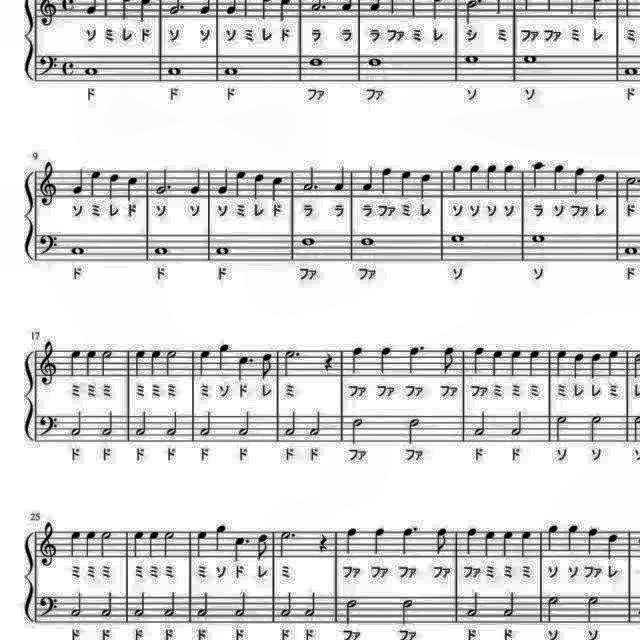Bass-clef: (37, 231, 63, 261), (36, 412, 62, 441), (37, 592, 61, 620), (36, 51, 59, 80)
Eighth-note: (440, 344, 460, 376), (431, 524, 449, 556), (253, 531, 271, 563), (257, 348, 275, 379)
Full-note: (298, 234, 320, 250), (66, 242, 88, 258), (461, 52, 482, 68), (166, 64, 186, 80), (364, 56, 384, 72), (151, 242, 171, 258), (213, 242, 233, 258), (448, 232, 468, 248), (357, 234, 377, 250), (221, 64, 241, 80), (529, 232, 549, 248), (520, 52, 540, 68), (306, 55, 326, 71), (83, 64, 103, 78), (623, 242, 640, 258), (623, 64, 640, 80), (639, 242, 640, 258), (639, 64, 640, 80)
Half-dot: (278, 526, 298, 562), (153, 165, 174, 197), (282, 346, 302, 378), (301, 163, 321, 193)
Half-note: (406, 416, 426, 448), (398, 596, 418, 628), (342, 596, 362, 628), (585, 593, 603, 627), (97, 527, 115, 561), (349, 416, 367, 448), (509, 407, 527, 439), (233, 408, 251, 440), (587, 412, 605, 444), (97, 347, 115, 379), (464, 588, 481, 620), (160, 530, 177, 562), (472, 408, 490, 438), (198, 408, 216, 438), (229, 592, 247, 622), (554, 412, 570, 444), (282, 408, 298, 440), (546, 594, 562, 626), (68, 588, 84, 620), (306, 408, 322, 439), (163, 347, 179, 378), (98, 408, 114, 439), (68, 408, 84, 438), (304, 589, 320, 619), (99, 588, 115, 618), (502, 592, 518, 622), (278, 589, 294, 619), (134, 408, 150, 438), (164, 409, 180, 439), (196, 590, 212, 618), (134, 592, 150, 620), (162, 588, 176, 616)
Quarter-dot: (398, 526, 422, 562), (404, 342, 428, 376), (232, 351, 255, 382), (231, 534, 251, 566)
Quarter-note: (342, 523, 362, 557), (370, 523, 390, 557), (568, 165, 588, 199), (214, 340, 232, 376), (376, 344, 396, 376), (347, 344, 365, 376), (461, 524, 479, 556), (487, 346, 505, 378), (584, 524, 602, 556), (196, 346, 214, 378), (591, 170, 609, 202), (67, 526, 83, 562), (468, 344, 486, 376), (549, 162, 567, 194), (552, 346, 570, 378), (131, 346, 149, 378), (193, 526, 210, 558), (378, 165, 394, 199), (82, 526, 98, 560), (146, 527, 162, 561), (416, 171, 434, 201), (604, 530, 620, 562), (106, 170, 122, 202), (482, 527, 498, 559), (250, 170, 266, 202), (604, 347, 620, 379), (396, 166, 412, 198), (526, 346, 542, 378), (234, 168, 250, 200), (70, 166, 86, 198), (66, 346, 82, 378), (82, 348, 98, 380), (565, 524, 581, 556), (130, 526, 146, 558), (214, 526, 230, 558), (544, 522, 560, 554), (89, 168, 105, 200), (359, 164, 376, 194), (484, 163, 501, 193), (186, 166, 202, 197), (148, 348, 164, 379), (214, 166, 230, 196), (506, 348, 522, 378), (332, 163, 348, 193), (570, 349, 586, 379), (588, 349, 604, 379), (465, 163, 481, 193), (518, 528, 534, 558), (530, 160, 546, 190), (126, 174, 142, 202), (270, 174, 286, 202), (502, 160, 514, 196), (500, 530, 514, 560), (450, 163, 464, 193)
Quarter-rest: (319, 346, 336, 374), (316, 528, 330, 554)
Treble-clef: (36, 159, 62, 209), (38, 518, 61, 570), (40, 337, 62, 387)
